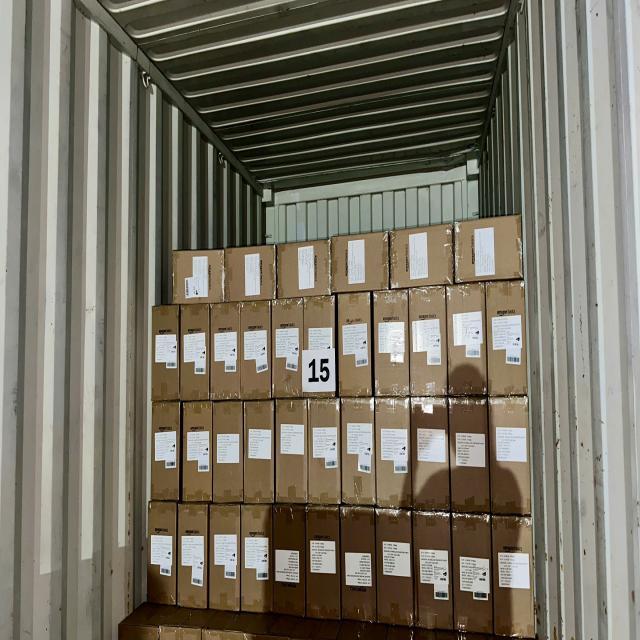Carton: (492, 515, 536, 637), (489, 398, 531, 518), (486, 281, 528, 397), (447, 400, 488, 518), (456, 515, 496, 633), (445, 284, 486, 399), (414, 512, 453, 632), (378, 510, 416, 630), (456, 217, 525, 282), (412, 398, 450, 513), (409, 288, 447, 399), (341, 507, 377, 621), (390, 227, 454, 291), (374, 396, 410, 508), (341, 399, 377, 508), (372, 292, 408, 399), (305, 508, 338, 622), (239, 508, 271, 618), (338, 297, 372, 400), (330, 235, 388, 295), (274, 508, 305, 620), (210, 508, 242, 615), (301, 300, 335, 400), (311, 400, 343, 505), (276, 401, 308, 504), (180, 507, 211, 613), (275, 242, 330, 300), (146, 506, 176, 612), (243, 303, 274, 402), (246, 402, 276, 504), (272, 301, 302, 401), (184, 402, 214, 502), (172, 250, 225, 306), (149, 404, 179, 502), (213, 402, 242, 503), (182, 308, 211, 404), (211, 304, 239, 403), (149, 309, 178, 404), (225, 248, 275, 302)
